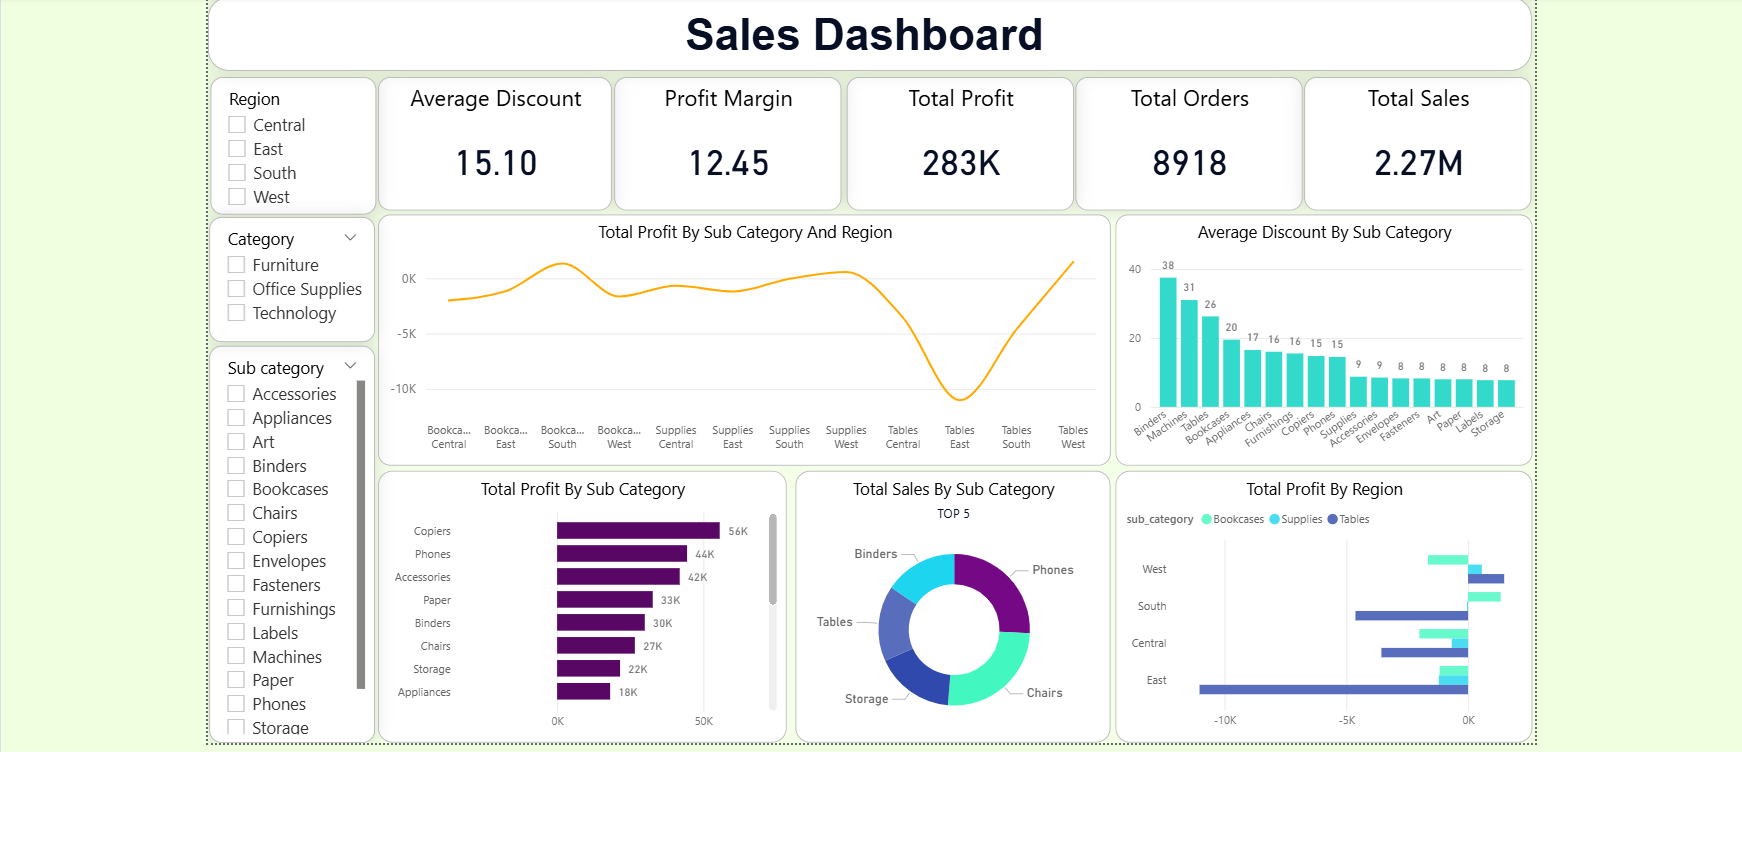

Layout of this report page (visuals, bound fields, positions):
{"tool":"powerbi","page":{"name":"Page 1","canvas":[1280,720],"ordinal":0},"visuals":[{"type":"card","title":"Total Orders","fields":{"Values":["sales_analysis.Total Orders"]},"box":[837.8,77,219.2,129.1],"z":0},{"type":"card","title":"Total Profit","fields":{"Values":["sales_analysis.Total Profit"]},"box":[615.9,77,219.2,129.1],"z":1000},{"type":"card","title":"Total Sales","fields":{"Values":["sales_analysis.Total Sales"]},"box":[1058.4,77,219.2,129.1],"z":2000},{"type":"card","title":"Profit Margin ","fields":{"Values":["sales_analysis.Profit Margin"]},"box":[392.7,77,219.2,129.1],"z":3000},{"type":"card","title":"Average Discount","fields":{"Values":["sales_analysis.Average Discount"]},"box":[164.1,77,225.9,129.1],"z":4000},{"type":"barChart","title":"Total Profit By Sub Category ","fields":{"Category":["sales_analysis.sub_category"],"Y":["sales_analysis.Total Profit"]},"box":[164.1,457.2,394,262.2],"z":5000},{"type":"columnChart","title":"Average Discount By Sub Category","fields":{"Category":["sales_analysis.sub_category"],"Y":["sales_analysis.Average Discount"]},"box":[875.5,209.8,402.1,242.1],"z":6000},{"type":"clusteredBarChart","title":"Total Profit By Region ","fields":{"Category":["sales_analysis.region"],"Y":["sales_analysis.Total Profit"],"Series":["sales_analysis.sub_category"]},"box":[875.5,457.2,402.1,262.2],"z":7000},{"type":"lineChart","title":"Total Profit By Sub Category And Region","fields":{"Category":["sales_analysis.sub_category","sales_analysis.region"],"Y":["sales_analysis.Total Profit"]},"box":[164.1,209.8,707.4,242.1],"z":8000},{"type":"donutChart","title":"Total Sales By Sub Category ","fields":{"Category":["sales_analysis.sub_category"],"Y":["sales_analysis.Total Sales"]},"box":[567.5,457.2,303.9,262.2],"z":9000},{"type":"slicer","fields":{"Values":["sales_analysis.region"]},"box":[2.7,76.7,160,133.1],"z":10000},{"type":"slicer","fields":{"Values":["sales_analysis.sub_category"]},"box":[1.3,336.2,160,383.3],"z":11000},{"type":"slicer","fields":{"Values":["sales_analysis.category"]},"box":[1.3,212.5,160,121],"z":12000},{"type":"textbox","box":[0,0,1277.6,71.3],"z":13000}]}

Visuals, with their boxes on the page's 1280x720 design canvas (x1, y1, x2, y2). These are canvas units, not pixel positions in the 1742x864 screenshot, which may show the page scaled, cropped or inside an application window:
"Total Orders" card: l=838, t=77, r=1057, b=206
"Total Profit" card: l=616, t=77, r=835, b=206
"Total Sales" card: l=1058, t=77, r=1278, b=206
"Profit Margin " card: l=393, t=77, r=612, b=206
"Average Discount" card: l=164, t=77, r=390, b=206
"Total Profit By Sub Category " barChart: l=164, t=457, r=558, b=719
"Average Discount By Sub Category" columnChart: l=876, t=210, r=1278, b=452
"Total Profit By Region " clusteredBarChart: l=876, t=457, r=1278, b=719
"Total Profit By Sub Category And Region" lineChart: l=164, t=210, r=872, b=452
"Total Sales By Sub Category " donutChart: l=568, t=457, r=871, b=719
slicer - sales_analysis.region: l=3, t=77, r=163, b=210
slicer - sales_analysis.sub_category: l=1, t=336, r=161, b=720
slicer - sales_analysis.category: l=1, t=212, r=161, b=334
textbox: l=0, t=0, r=1278, b=71
